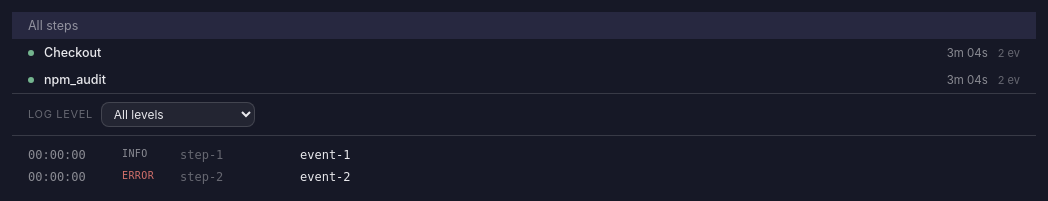
Test case: RunDetailLogSection — terminal run (LogViewer) › 'All steps' restores the full tail after a step filter was applied (AC2)
Click the button "Checkout 3m 04s 2 ev" at (73, 52), box top-left (12, 39), bottom-right (1036, 66)
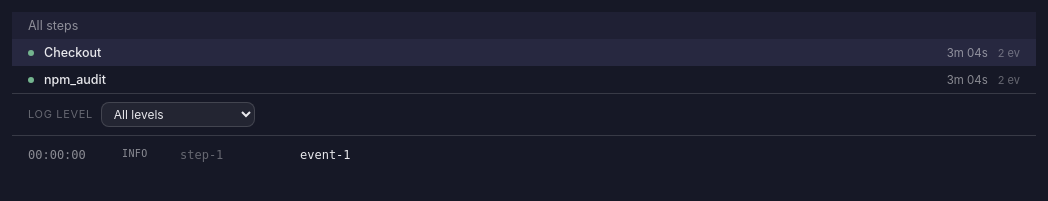
Expected: the text "event-2" is gone
Click the button "All steps" at (53, 26), box top-left (12, 12), bottom-right (1036, 39)
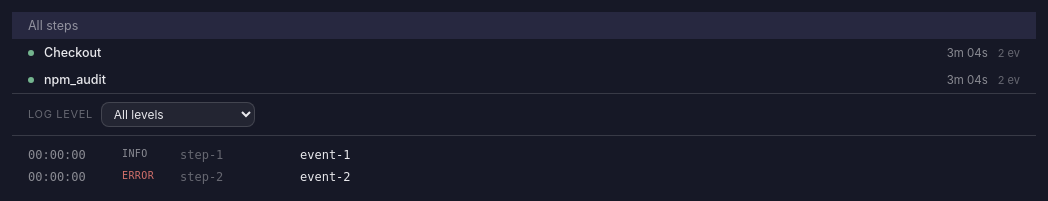
Expected: the text "event-1" is shown, top-left (300, 148), bottom-right (351, 162)
Expected: the text "event-2" is shown, top-left (300, 170), bottom-right (351, 184)
